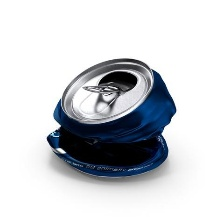can: (37, 48, 181, 185)
